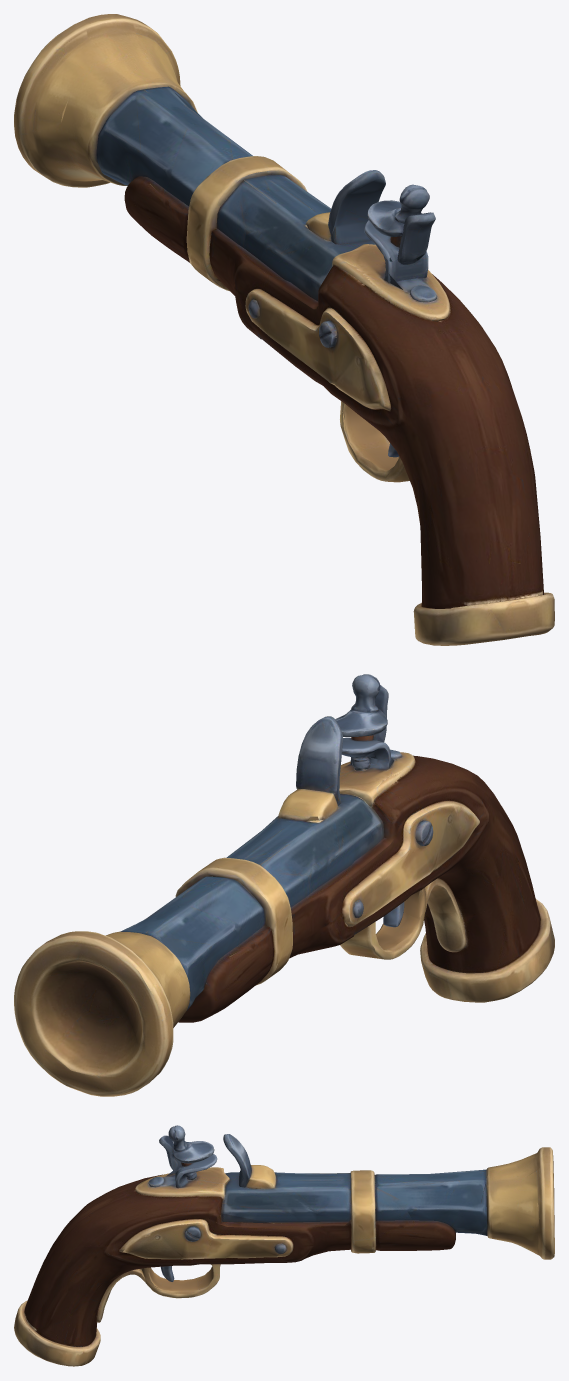
File: scatter.glb
The picture shows the model from 3 angles, top to bottom: view 1: azimuth 30°, elevation 25°; view 2: azimuth 150°, elevation 25°; view 3: azimuth 270°, elevation 25°; orthographic projection. The views are drawn at different scales.
Visible parts, largest first — view 1: body, action; view 2: body, action; view 3: body, action.
Boxes of the visible parts, <box> form: body: <box>14,14,554,645</box>; action: <box>364,184,435,262</box>; body: <box>14,716,554,1096</box>; action: <box>335,674,388,757</box>; body: <box>14,1134,554,1366</box>; action: <box>159,1125,217,1173</box>.
Bounding box in the file's own units: 0.296 × 0.6784 × 1.4.
Materials: 2 (1 with a texture image).
